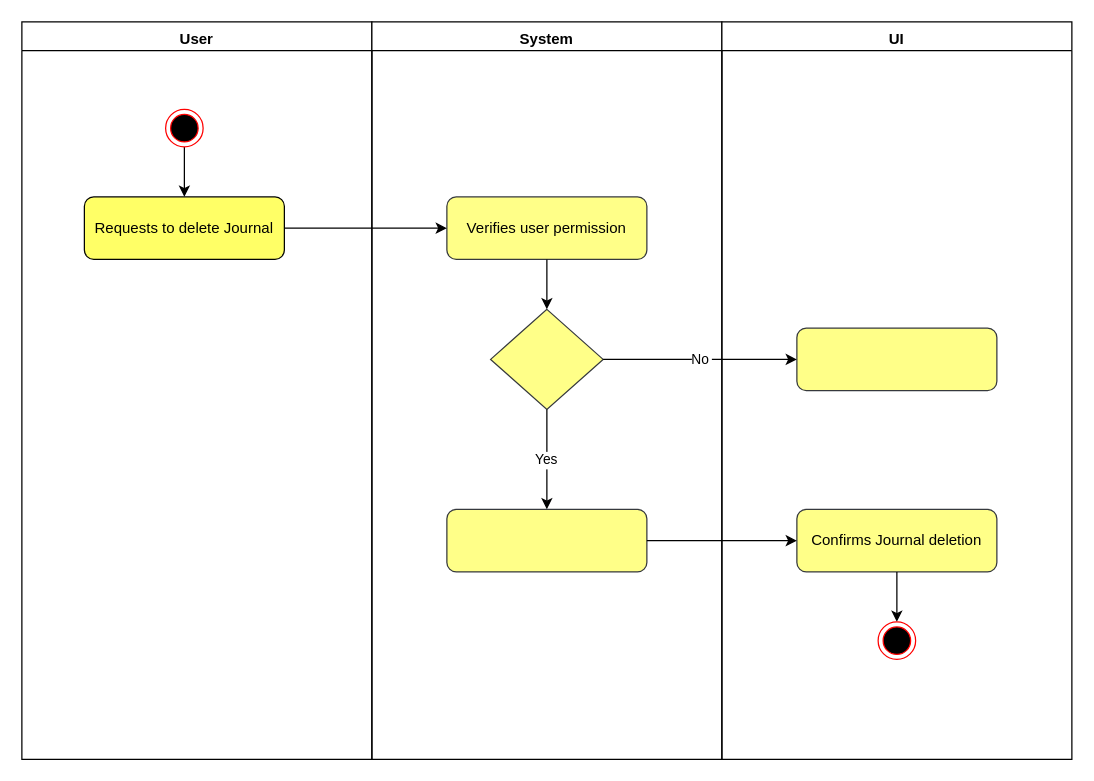
Some shapes in this 1094 by 781 pixel diagram are drawn without their labels. Here are the shapes that lost their labels. From the top down, the centre of each, then its label:
At point 546,358: "authorised person".
At point 896,359: "Shows error".
At point 546,540: "System deletes Journal".
